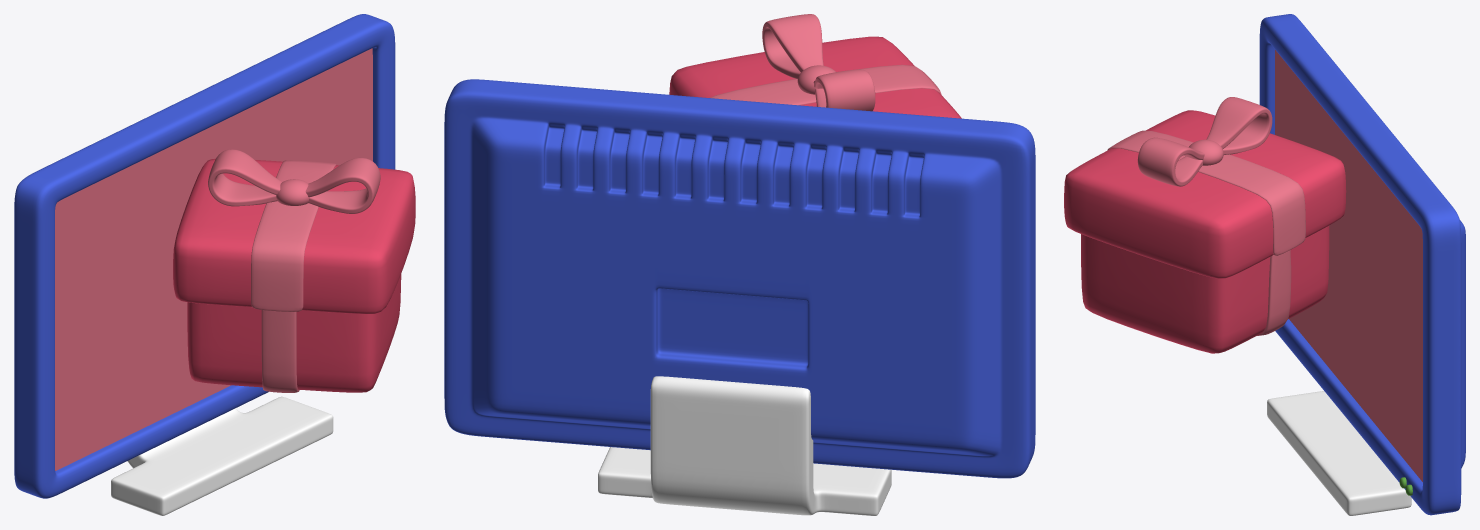
The model's file is virtual-gifts-3d-animated-icon-1178346300917.glb.
3 renders of one model, left to right at view 1: azimuth 30°, elevation 25°; view 2: azimuth 150°, elevation 25°; view 3: azimuth 270°, elevation 25°, orthographic. The views are drawn at different scales.
Parts seen in each view (by area): view 1: monitor, gift.003, gift.002, gift, gift.001, gift.004, gift.005; view 2: monitor, gift.003, gift.001, gift; view 3: monitor, gift.003, gift.002, gift.001, gift, gift.004, gift.005.
Boxes of the visible parts, x1=… form: monitor: x1=14, y1=14, x2=395, y2=515; gift.003: x1=173, y1=158, x2=415, y2=313; gift.002: x1=187, y1=274, x2=401, y2=392; gift: x1=251, y1=160, x2=336, y2=311; gift.001: x1=208, y1=149, x2=380, y2=213; gift.004: x1=261, y1=310, x2=299, y2=392; gift.005: x1=276, y1=179, x2=309, y2=205; monitor: x1=444, y1=79, x2=1035, y2=515; gift.003: x1=669, y1=36, x2=961, y2=118; gift.001: x1=762, y1=14, x2=875, y2=111; gift: x1=710, y1=64, x2=941, y2=105; monitor: x1=1259, y1=14, x2=1465, y2=515; gift.003: x1=1064, y1=110, x2=1346, y2=278; gift.002: x1=1081, y1=225, x2=1329, y2=353; gift.001: x1=1137, y1=97, x2=1272, y2=186; gift: x1=1107, y1=130, x2=1305, y2=255; gift.004: x1=1257, y1=250, x2=1291, y2=335; gift.005: x1=1189, y1=139, x2=1223, y2=165.
Size of the model in its own units: 2.59 by 1.96 by 2.07.
